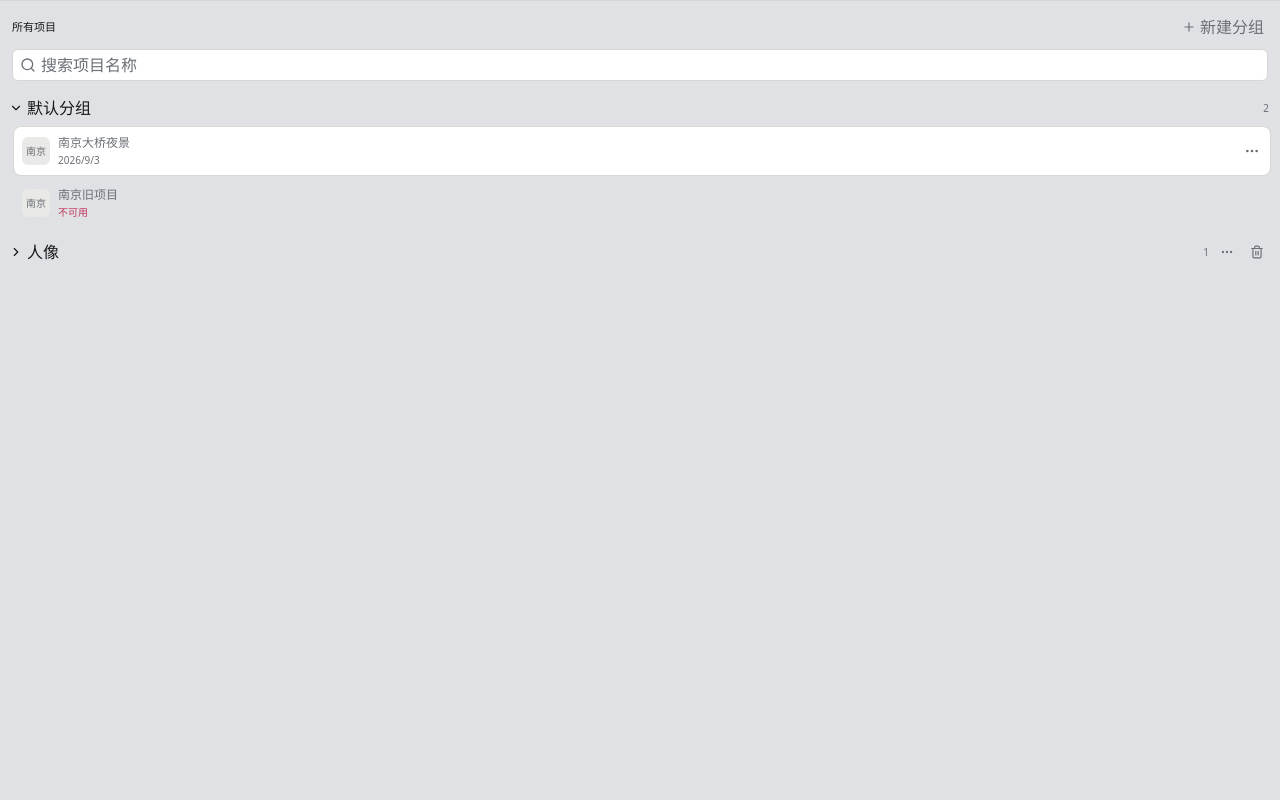
Test: grouped project sidebar › keeps invalid names editable and supports renaming from the keyboard menu
Click the button named "分组操作 人像" at (1227, 252), box [1213,238,1241,266]
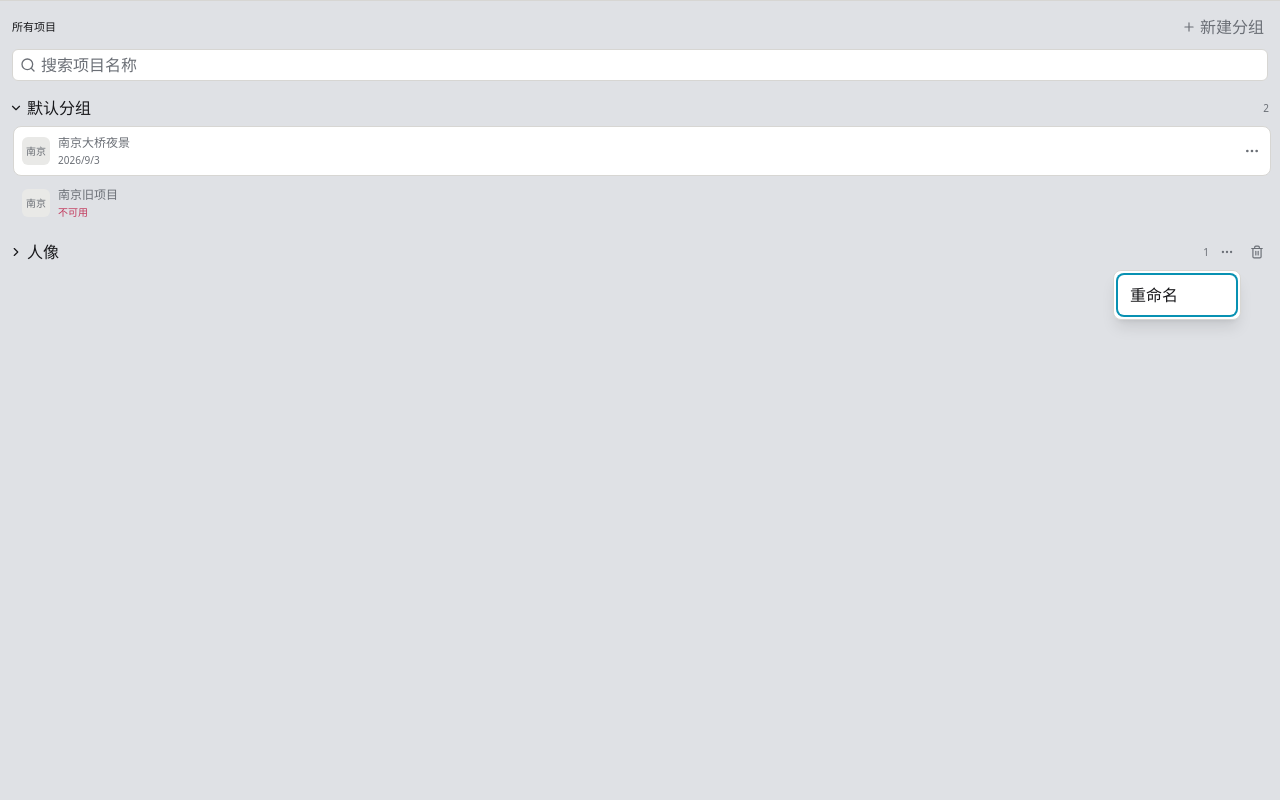
Press Enter
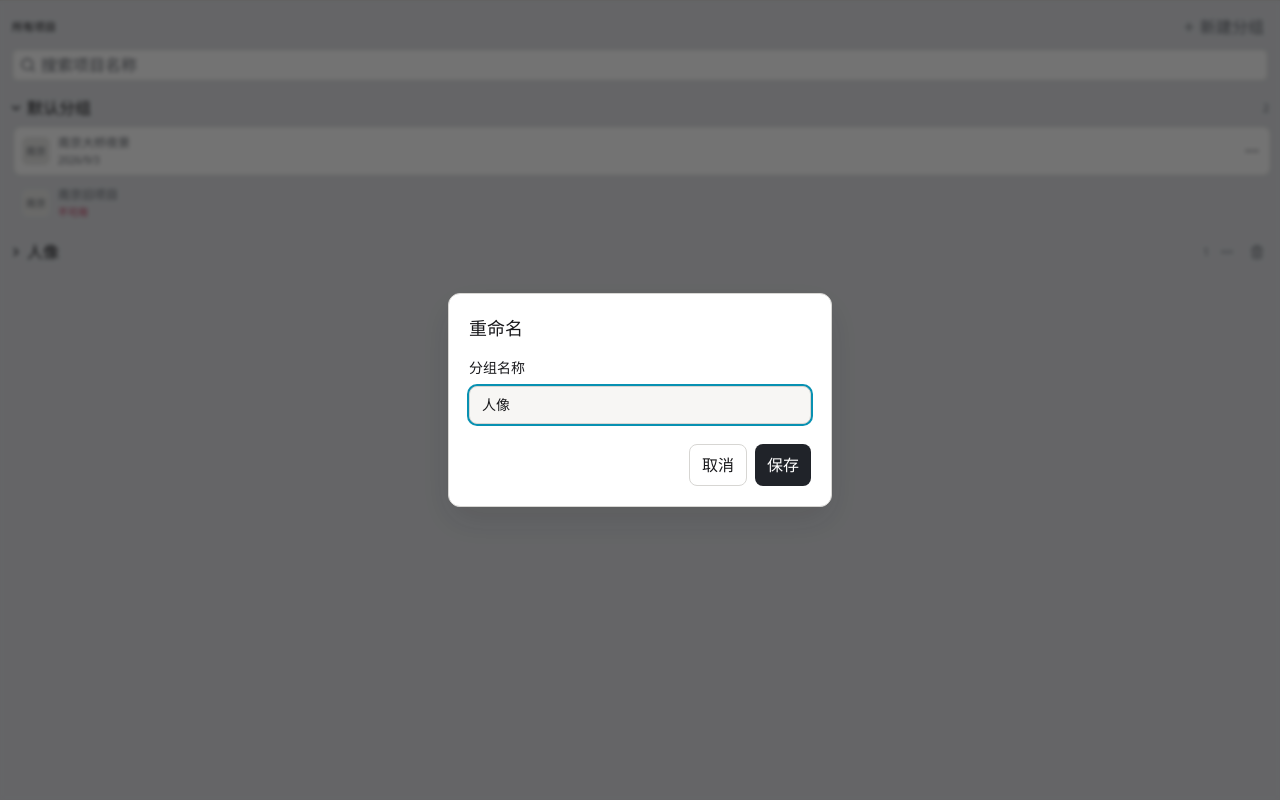
Replace the text in the field labelled "分组名称" with "Default" at (640, 405), box [469,386,811,424]
Then press Enter
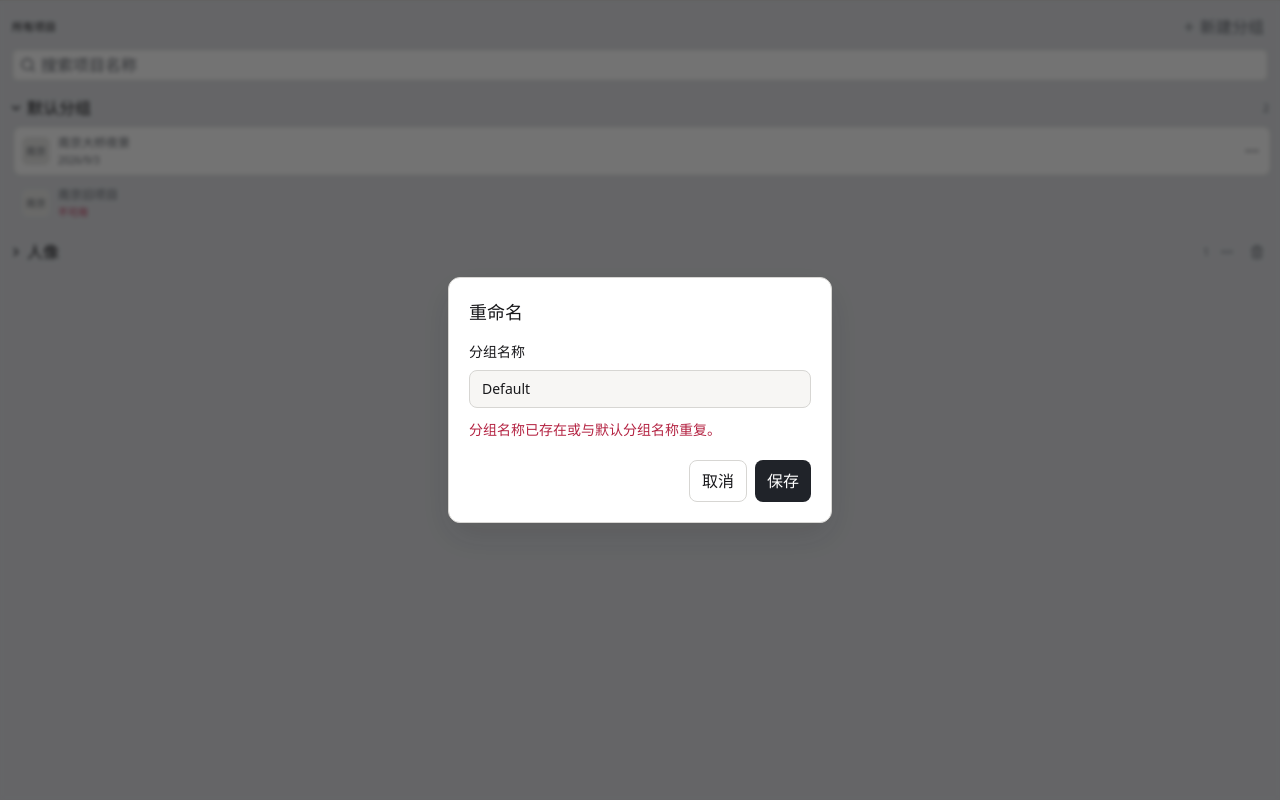
expect the message shows "已存在": met, box [469,420,721,439]
Replace the text in the field labelled "分组名称" with " 秋日人像 " at (640, 389), box [469,370,811,408]
Then press Enter
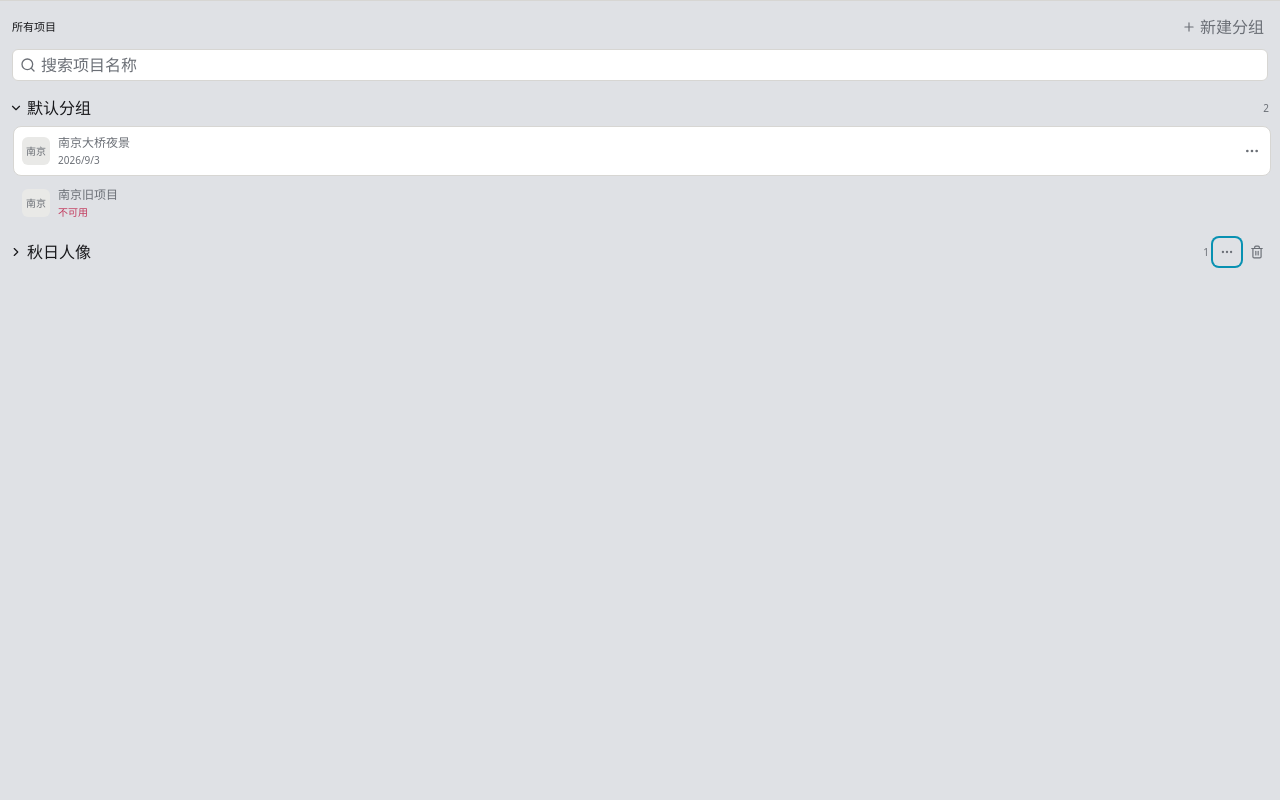
expect the dialog is gone: met
